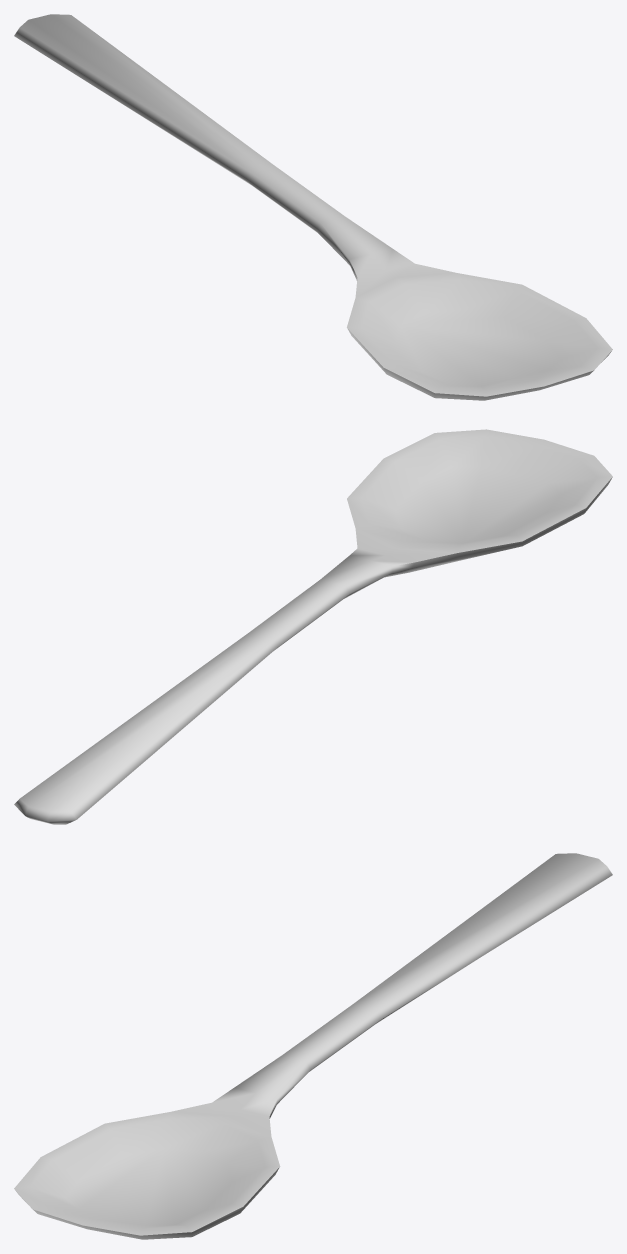
The model's file is IceCreamSpoon_01.fbx.
3 views of the same model, one above another, from view 1: azimuth 30°, elevation 25°; view 2: azimuth 150°, elevation 25°; view 3: azimuth 330°, elevation 25° (orthographic).
Visible parts, largest first — view 1: IceCreamSpoon_01; view 2: IceCreamSpoon_01; view 3: IceCreamSpoon_01.
Boxes of the visible parts, <box> form: IceCreamSpoon_01: <box>14,14,612,400</box>; IceCreamSpoon_01: <box>14,429,612,824</box>; IceCreamSpoon_01: <box>14,853,612,1239</box>.
Size of the model in its own units: 0.0317 by 0.00578 by 0.1376.
